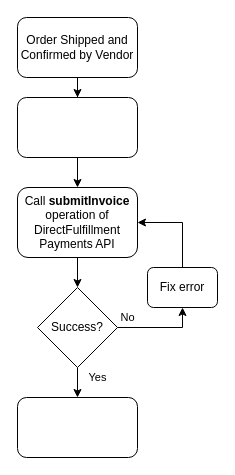
This 235x475 diagram has some shape labels left out. The centre of each missing label's shape, as x and y in pixels:
"Generate Invoice" goes at pixel 77 127.
"Verify status of invoice on Vendor Central" goes at pixel 77 427.
